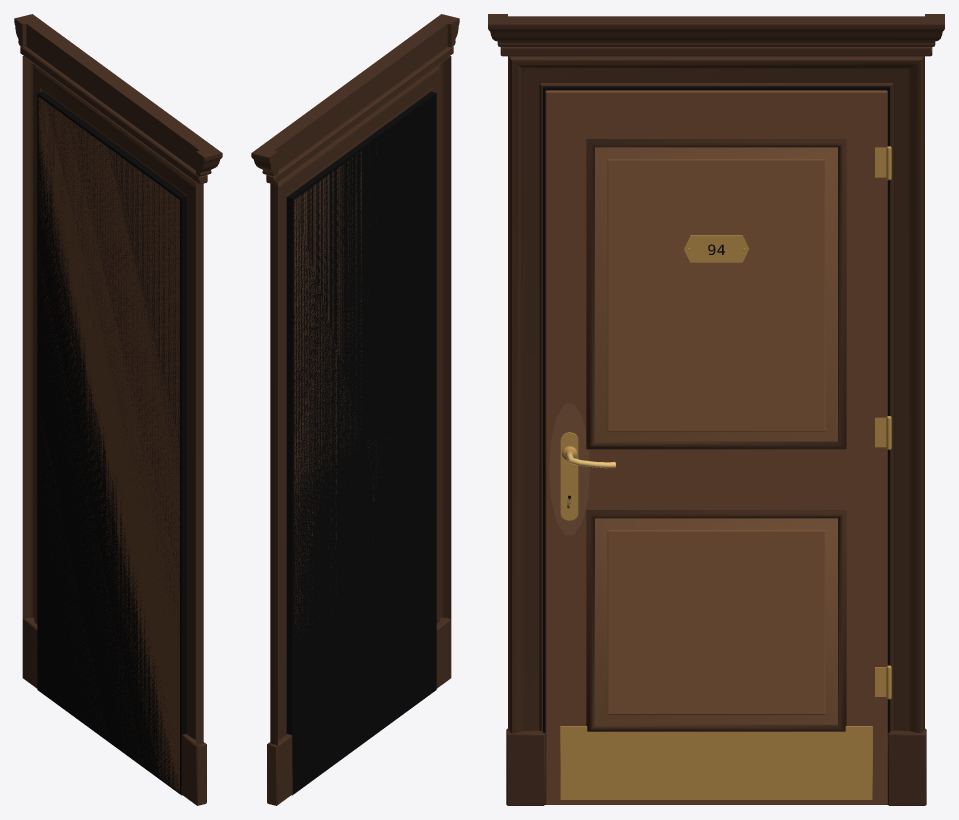
The model's file is hotel_door_c@3.glb.
The picture shows the model from 3 angles, left to right: view 1: azimuth 30°, elevation 25°; view 2: azimuth 150°, elevation 25°; view 3: azimuth 270°, elevation 25°; orthographic projection. The views are drawn at different scales.
Visible parts, largest first — view 1: fuge, blatt, bekleidung, verdachung; view 2: fuge, bekleidung, blatt, verdachung; view 3: fuellungen, blatt, bekleidung, beschlag, verdachung, kehlleisten, fuge, abrieb, nummernschild.
Boxes of the visible parts, bbox=[...] form: fuge: bbox=[37, 91, 187, 795]; blatt: bbox=[38, 97, 179, 792]; bekleidung: bbox=[22, 56, 206, 805]; verdachung: bbox=[14, 14, 222, 184]; fuge: bbox=[286, 91, 436, 795]; bekleidung: bbox=[267, 56, 451, 805]; blatt: bbox=[294, 151, 376, 627]; verdachung: bbox=[251, 14, 459, 184]; fuellungen: bbox=[595, 147, 837, 724]; blatt: bbox=[545, 90, 887, 804]; bekleidung: bbox=[506, 56, 926, 805]; beschlag: bbox=[560, 146, 891, 799]; verdachung: bbox=[488, 14, 944, 56]; kehlleisten: bbox=[586, 139, 846, 731]; fuge: bbox=[543, 86, 889, 804]; abrieb: bbox=[549, 403, 589, 535]; nummernschild: bbox=[684, 235, 748, 262].
Bounding box in the file's own units: 0.1118 × 2.33 × 1.23.
